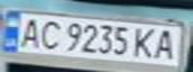2: (78, 20, 100, 55)
3: (96, 22, 115, 56)
5: (112, 24, 133, 57)
9: (60, 20, 84, 53)
A: (151, 27, 181, 61), (15, 16, 45, 48)
C: (36, 18, 63, 51)
K: (133, 25, 160, 60)
